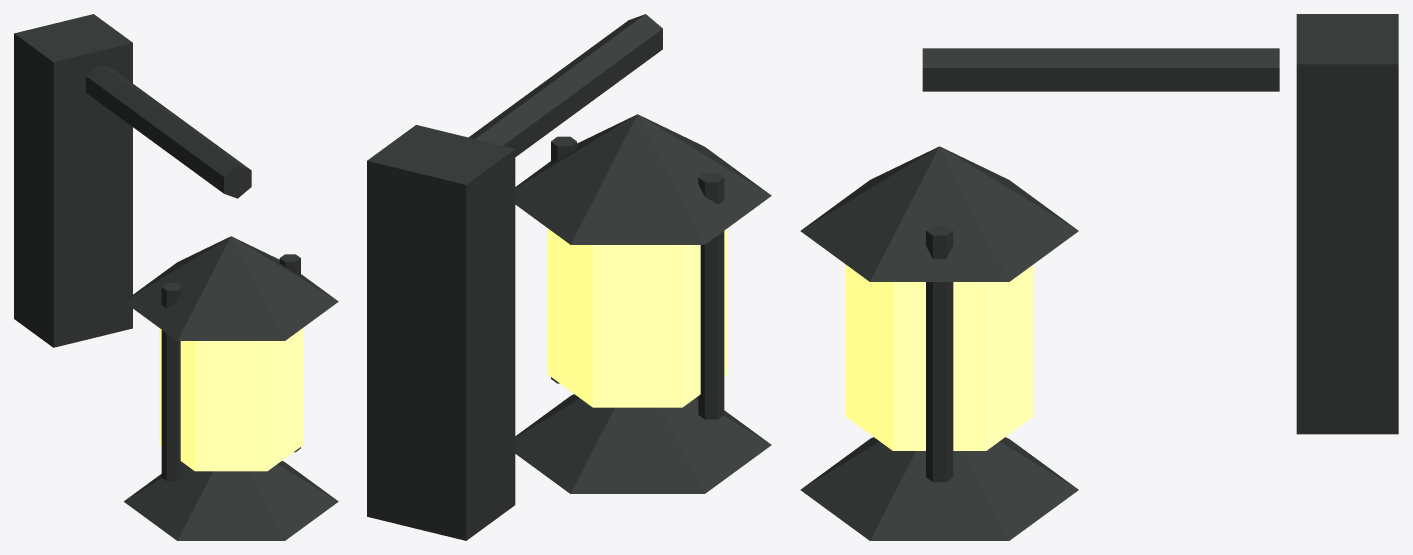
Rendered from lamp_oil.glb.
3 views of the same model, side by side, from view 1: azimuth 30°, elevation 25°; view 2: azimuth 150°, elevation 25°; view 3: azimuth 270°, elevation 25° (orthographic). The views are drawn at different scales.
Visible parts, largest first — view 1: wall bracket, lamp glass, lamp cap.001, lamp cap, lamp hanger, lamp frame; view 2: wall bracket, lamp glass, lamp cap.001, lamp cap, lamp hanger, lamp frame, lamp frame.001; view 3: wall bracket, lamp glass, lamp cap.001, lamp cap, lamp hanger, lamp frame.001.
Boxes of the visible parts, x1,y1,x2,y2 form: wall bracket: (14, 14, 132, 347); lamp glass: (159, 328, 303, 471); lamp cap.001: (123, 236, 338, 340); lamp cap: (124, 461, 338, 540); lamp hanger: (86, 64, 251, 198); lamp frame: (161, 283, 182, 481); wall bracket: (367, 125, 515, 540); lamp glass: (547, 228, 727, 407); lamp cap.001: (515, 114, 771, 244); lamp cap: (515, 394, 771, 493); lamp hanger: (468, 14, 662, 156); lamp frame: (698, 172, 724, 419); lamp frame.001: (551, 136, 576, 383); wall bracket: (1296, 14, 1398, 434); lamp glass: (846, 265, 1033, 450); lamp cap.001: (800, 146, 1078, 281); lamp cap: (800, 437, 1078, 540); lamp hanger: (922, 48, 1279, 91); lamp frame.001: (926, 225, 953, 482).
Size of the model in its own units: 0.142 by 0.2925 by 0.352.
